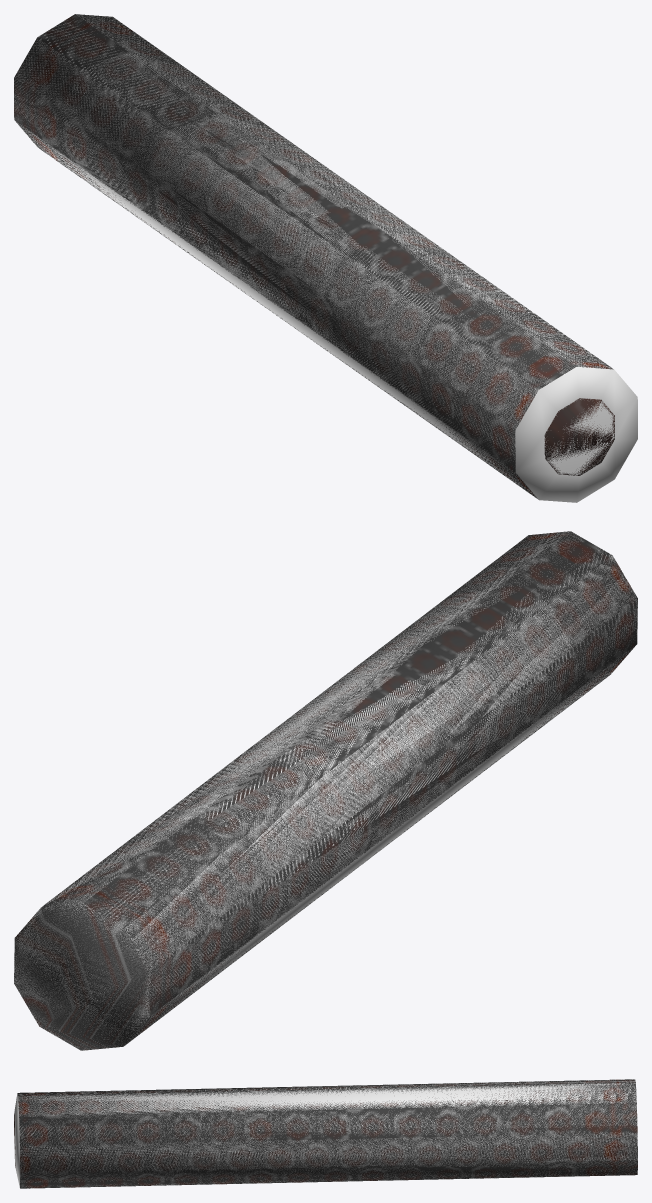
3 renders of one model, top to bottom at view 1: azimuth 30°, elevation 25°; view 2: azimuth 150°, elevation 25°; view 3: azimuth 270°, elevation 25°, orthographic. The views are drawn at different scales.
Parts seen in each view (by area): view 1: weapon_machinegun_l_01_barrel, weapon_machinegun_l_01_barrel_col; view 2: weapon_machinegun_l_01_barrel, weapon_machinegun_l_01_barrel_col; view 3: weapon_machinegun_l_01_barrel, weapon_machinegun_l_01_barrel_col.
Part boxes in pixels (x1=…): weapon_machinegun_l_01_barrel: x1=14, y1=14, x2=614, y2=498; weapon_machinegun_l_01_barrel_col: x1=14, y1=14, x2=637, y2=502; weapon_machinegun_l_01_barrel: x1=14, y1=531, x2=637, y2=1050; weapon_machinegun_l_01_barrel_col: x1=14, y1=531, x2=637, y2=1050; weapon_machinegun_l_01_barrel: x1=14, y1=1079, x2=637, y2=1188; weapon_machinegun_l_01_barrel_col: x1=14, y1=1079, x2=637, y2=1188.
Size of the model in its own units: 0.0708 by 0.0664 by 0.3965.
1 material, 1 textured.
